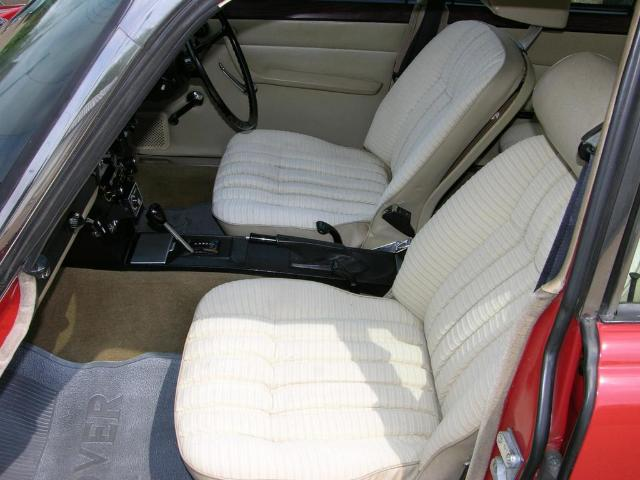Seatbelt: (396, 0, 444, 78)
